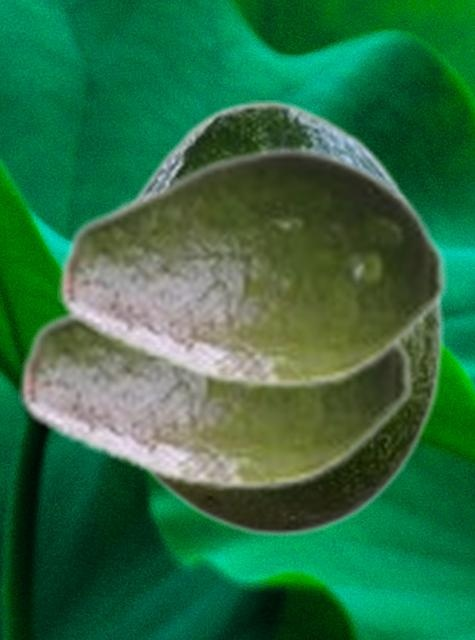avocado: (129, 100, 443, 537), (57, 144, 449, 391), (18, 305, 415, 493)
